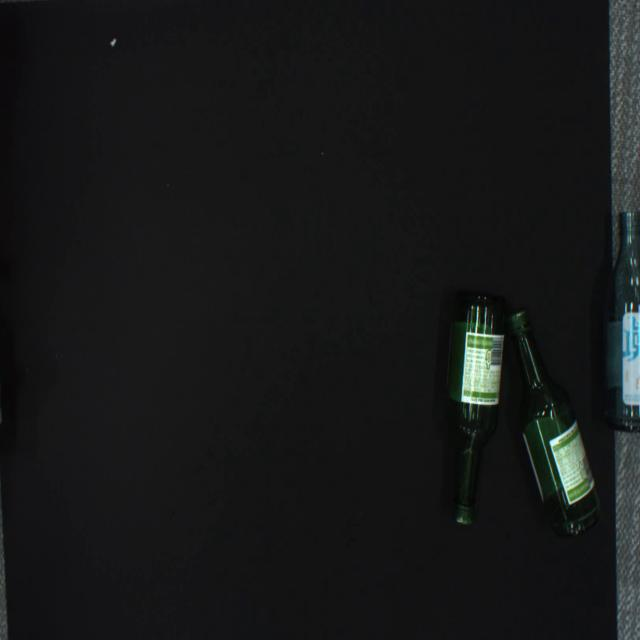soju-bottle: (507, 312, 600, 537), (445, 292, 507, 525), (601, 211, 640, 432)
